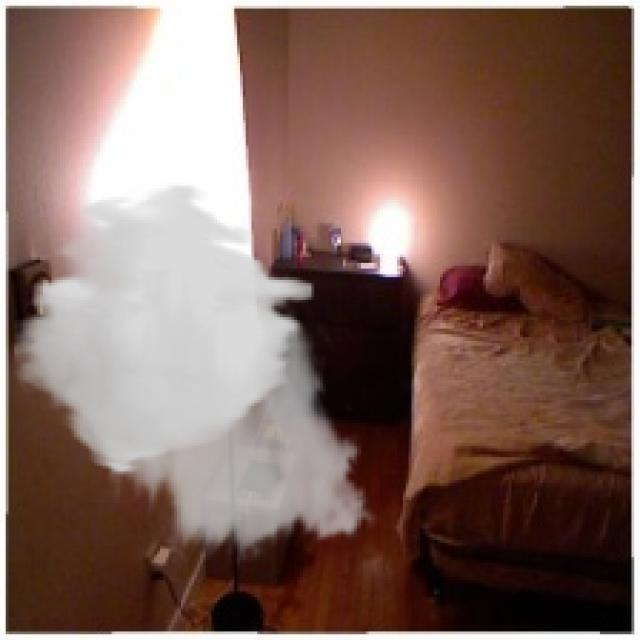Smoke: (14, 183, 383, 563)
